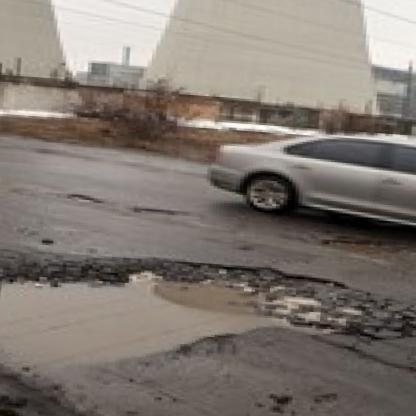pothole: (0, 240, 416, 402), (133, 206, 178, 218), (67, 192, 105, 206)
